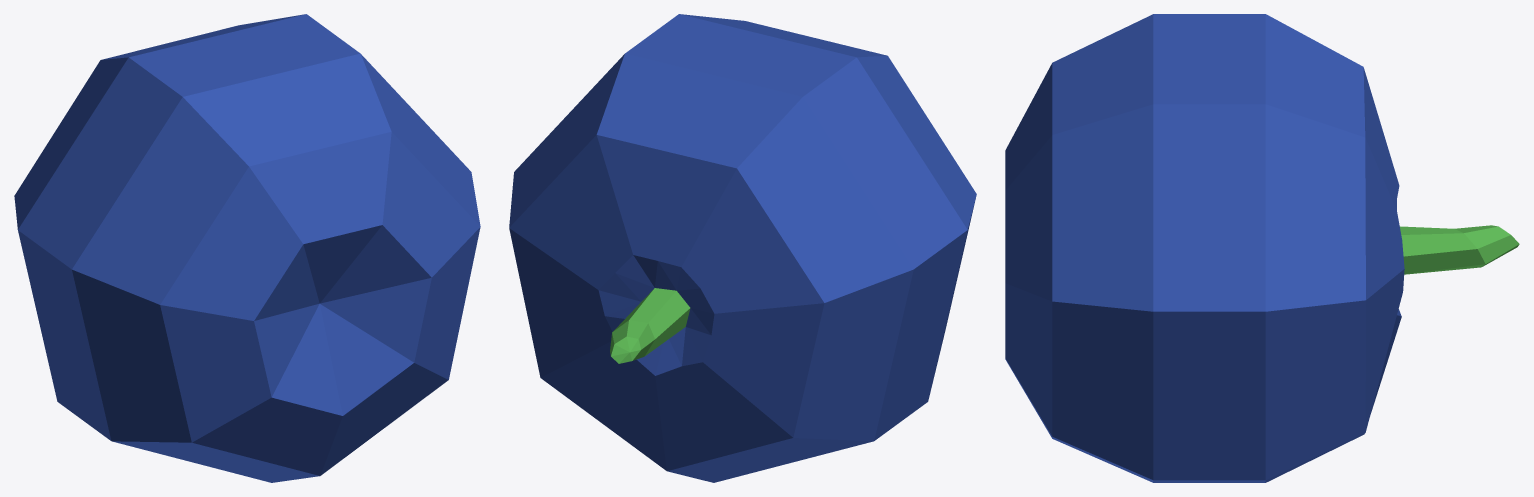
File: Blueberry.fbx
3 views of the same model, side by side, from view 1: azimuth 30°, elevation 25°; view 2: azimuth 150°, elevation 25°; view 3: azimuth 270°, elevation 25° (orthographic). The views are drawn at different scales.
Parts seen in each view (by area): view 1: Blueberry; view 2: Blueberry; view 3: Blueberry.
Boxes of the visible parts, x1,y1,x2,y2 form: Blueberry: (14, 14, 480, 482); Blueberry: (509, 14, 976, 482); Blueberry: (1005, 14, 1519, 482).
Size of the model in its own units: 55.34 by 53.95 by 59.34.
